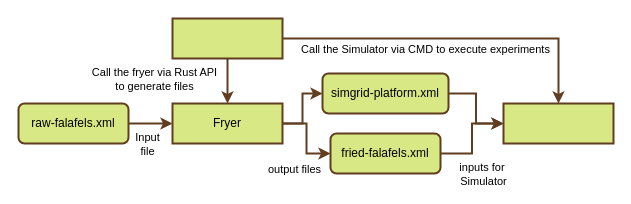
The diagram is 631 pixels wide and 204 high, and some of its shapes have lost their labels. The centre of each missing label's shape, as x and y in pixels:
Beagle: the point at 227,38
Simulator: the point at 558,123
